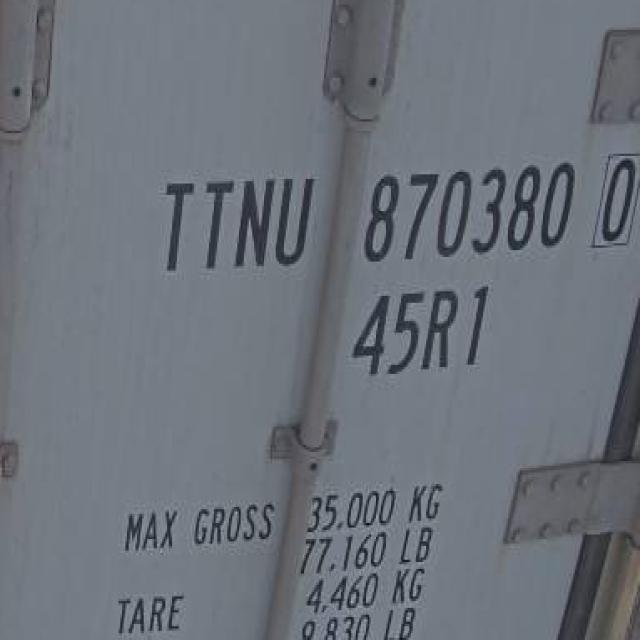dv: (588, 144, 640, 254)
owner: (146, 160, 320, 292)
serial: (351, 157, 580, 270)
size: (350, 278, 491, 385)
